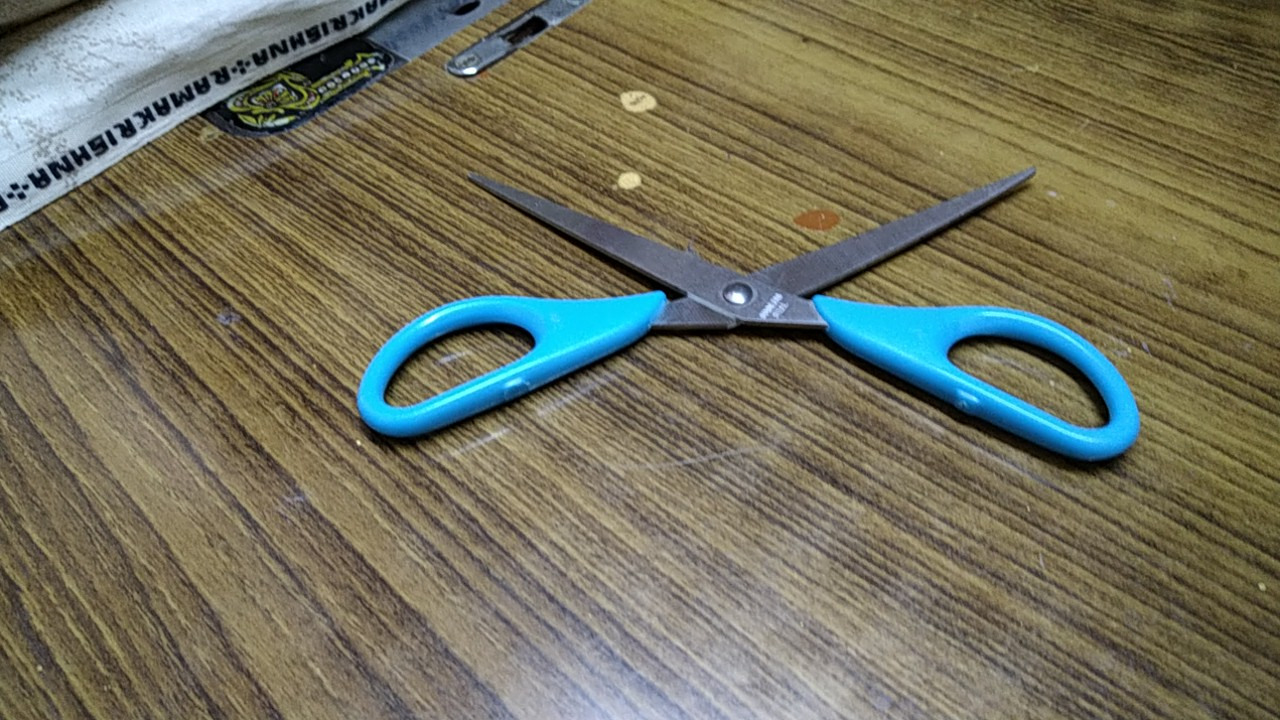scissor: (346, 161, 1150, 487)
